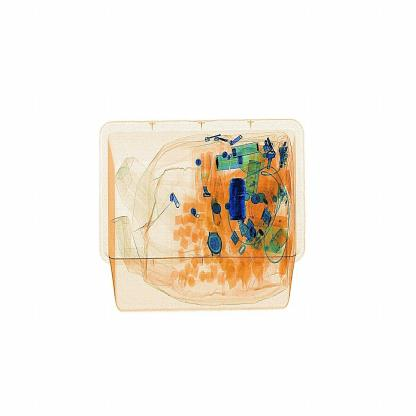scissors: (225, 175, 249, 224)
